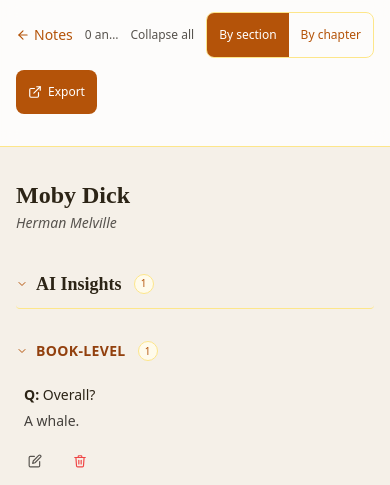
Test: chapter view renders book-level insights in a separate section
Expected: the text "Q: Overall?" is shown, [24,385,95,404]
Click the button "By chapter". click: (331, 35)
box: [289,13,373,57]
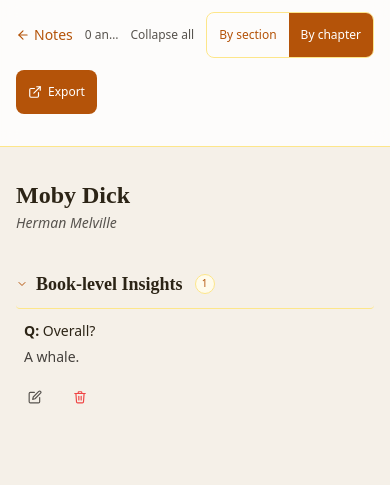
Expected: the button "Book-level Insights 1" is shown, [16,265,374,309]
